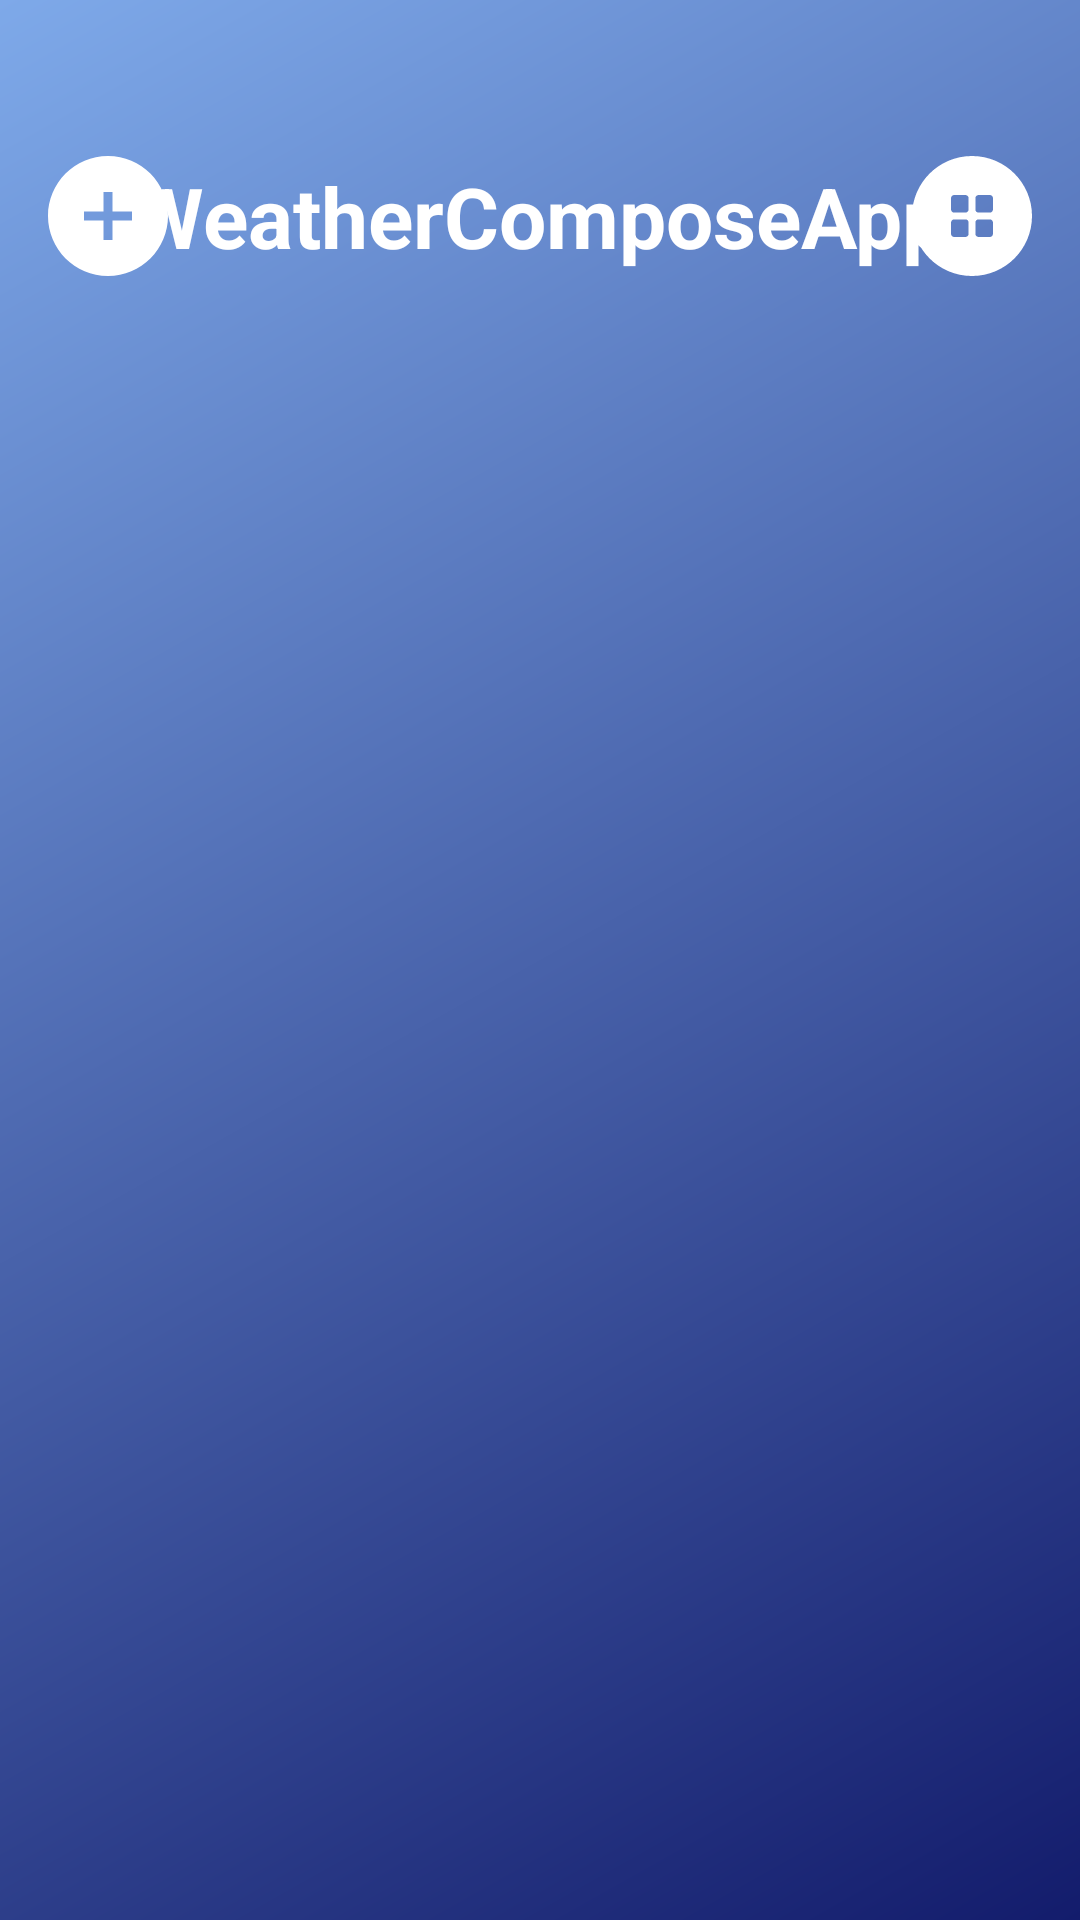

Point at icon controls on the screen. Image size 1080w x 1920h, points as [x,y].
add: [108,216]
menu: [972,216]
